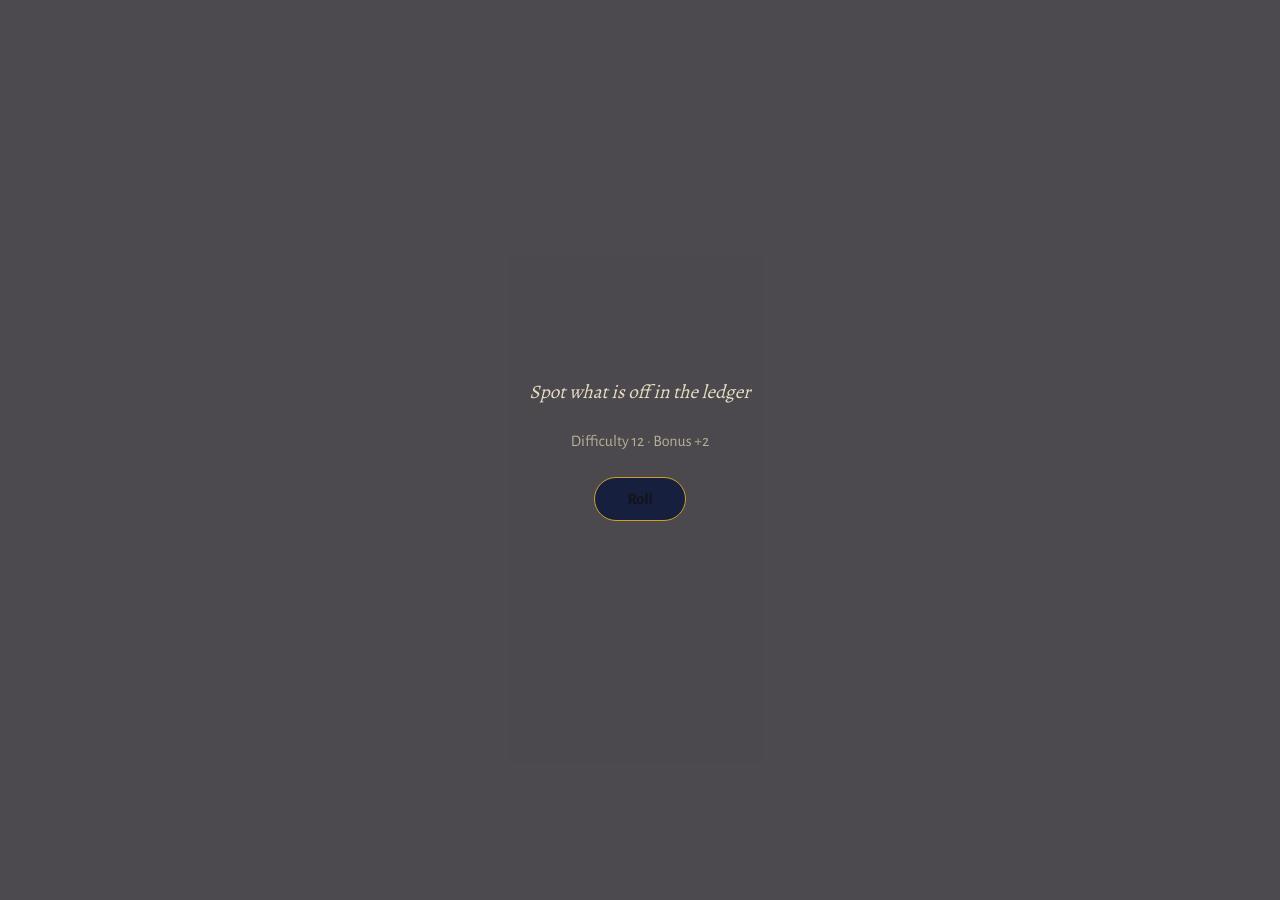
Test: DiceMoment tumble › tumbles for about a second before the result shows
Later steps or results of the test are not shown.
Click the button "Roll": x=640, y=499 [594,477,686,521]
Wait 1000 ms
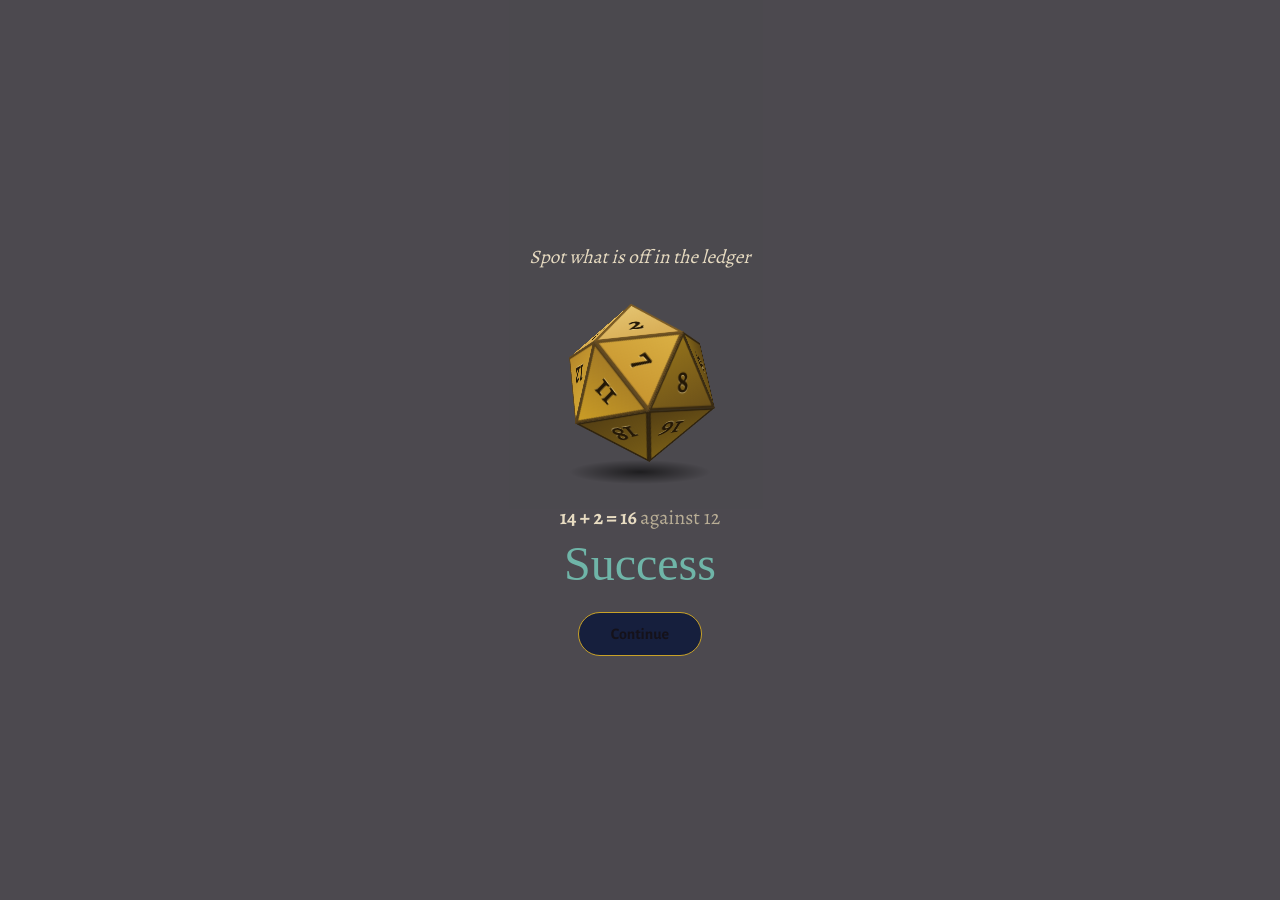
Check: the text "Success" is shown, box [564,540,716,588]
